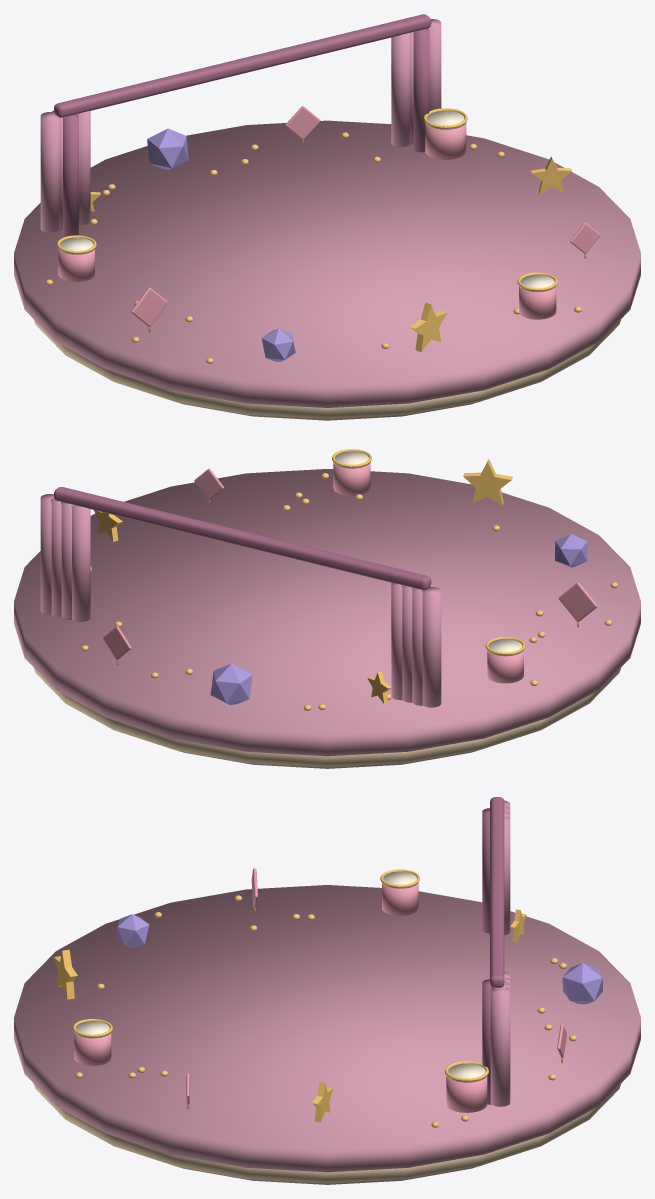
The model's file is world.glb.
3 views of the same model, one above another, from view 1: azimuth 30°, elevation 25°; view 2: azimuth 150°, elevation 25°; view 3: azimuth 270°, elevation 25° (orthographic).
Visible parts, largest first — view 1: Cone, Cone.001, Cube, Cone.004, Cone.009, drum.001, Cone.003, Cone.008, drum.003, drum.002, gem.001, Cone.007 (+6 smaller); view 2: Cone, Cone.001, Cube, Cone.004, Cone.009, drum.003, drum.002, Cone.012, Cone.007, gem.001, Cone.010, Cone.005 (+9 smaller); view 3: Cone, Cone.001, Cube, Cone.012, drum.001, drum.003, drum.002, gem.001, Cone.003, Cone.008, gem.002, Cone.007 (+1 smaller).
Boxes of the visible parts, x1,y1,x2,y2 form: Cone: (14,120,640,407); Cone.001: (34,320,620,419); Cube: (54,14,431,117); Cone.004: (40,112,59,232); Cone.009: (391,33,409,146); drum.001: (423,108,467,159); Cone.003: (62,114,78,236); Cone.008: (412,28,429,152); drum.003: (517,272,557,319); drum.002: (57,235,96,281); gem.001: (147,128,188,169); Cone.007: (79,111,90,225); Cone: (14,469,640,756); Cone.001: (33,667,621,767); Cube: (54,487,431,589); Cone.004: (422,587,441,707); Cone.009: (71,505,90,621); drum.003: (332,449,371,495); drum.002: (485,637,525,683); Cone.012: (40,494,54,614); Cone.007: (391,582,404,700); gem.001: (210,663,252,705); Cone.010: (61,502,77,619); Cone.005: (411,587,429,704); Cone: (14,885,640,1172); Cone.001: (34,1084,620,1183); Cube: (490,797,504,987); Cone.012: (490,986,510,1106); drum.001: (445,1061,488,1112); drum.003: (72,1019,112,1065); drum.002: (380,869,419,915); gem.001: (562,963,602,1004); Cone.003: (482,808,489,933); Cone.008: (482,979,491,1104); gem.002: (115,914,149,947); Cone.007: (504,816,510,935).
Bounding box in the file's own units: 9.6 × 2.98 × 9.6.
